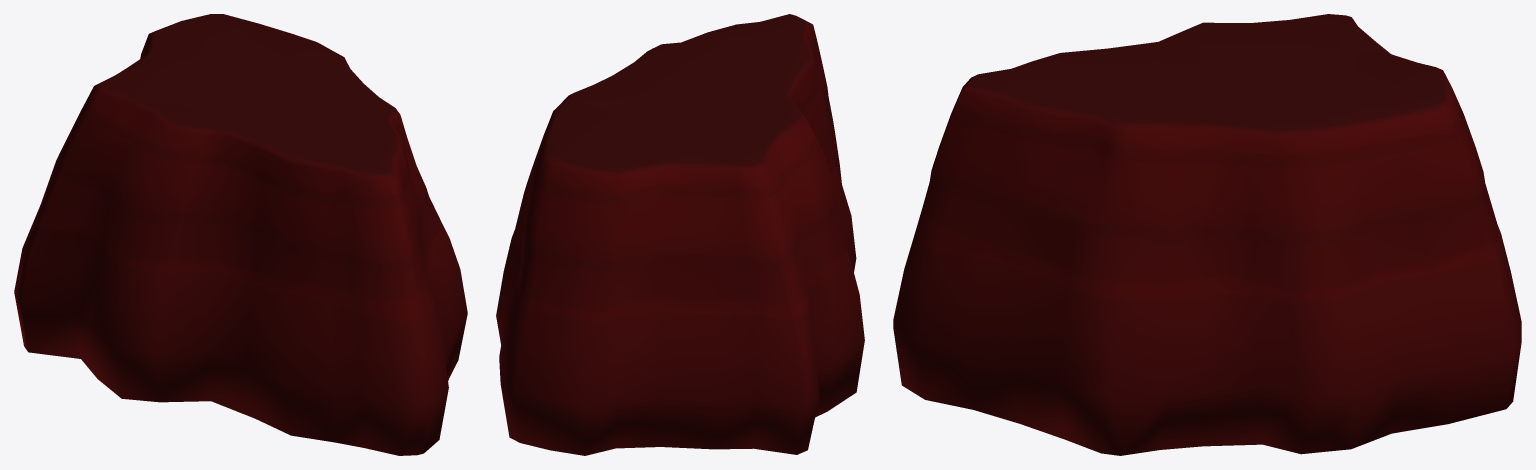
Rendered from geology-landforms-alienplateularge_v3.fbx.
The picture shows the model from 3 angles, left to right: view 1: azimuth 30°, elevation 25°; view 2: azimuth 150°, elevation 25°; view 3: azimuth 270°, elevation 25°; orthographic projection. The views are drawn at different scales.
Parts seen in each view (by area): view 1: AlienPlateuLarge_v3; view 2: AlienPlateuLarge_v3; view 3: AlienPlateuLarge_v3.
Part boxes in pixels (x1,y1,x2,y2): AlienPlateuLarge_v3: [14, 14, 467, 455]; AlienPlateuLarge_v3: [496, 14, 864, 455]; AlienPlateuLarge_v3: [893, 14, 1521, 455].
Size of the model in its own units: 38.1 by 28.44 by 54.24.
